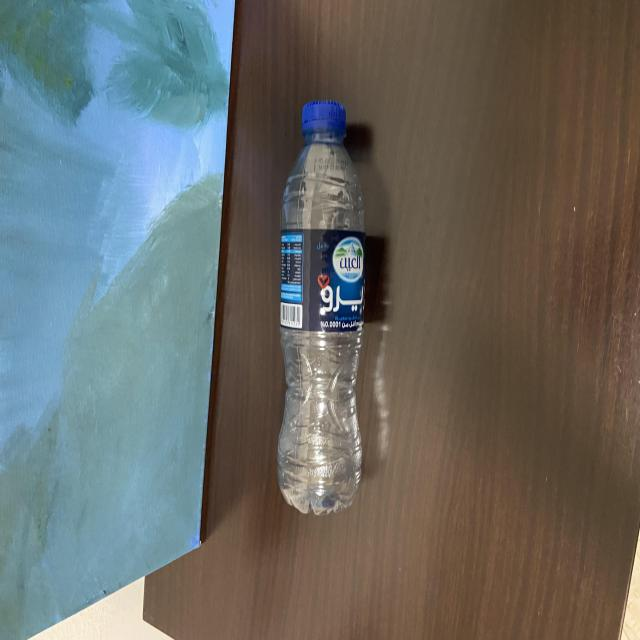plastic: (272, 97, 368, 516)
